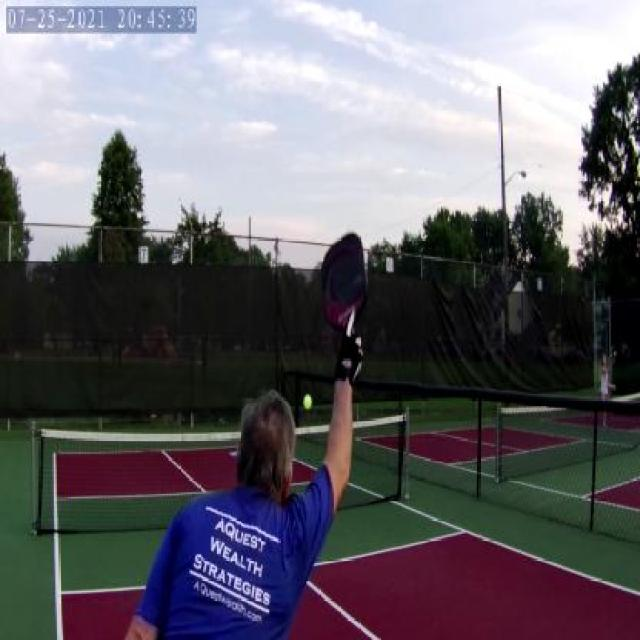ball: (300, 390, 315, 412)
